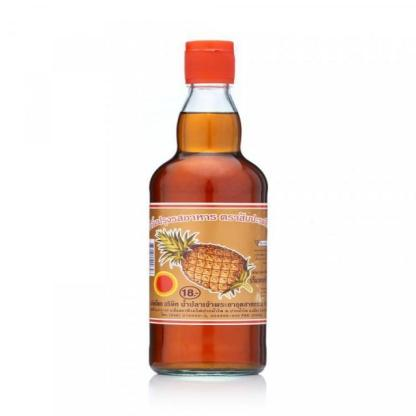Can: (147, 39, 268, 377)
